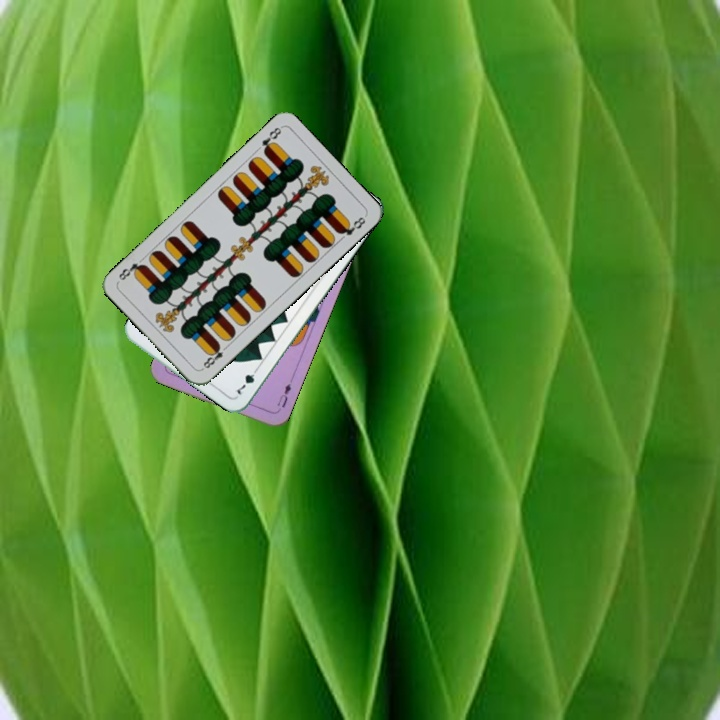E8: (198, 340, 231, 372), (257, 123, 284, 157)
EU: (273, 379, 294, 410)
G7: (233, 363, 261, 398)
